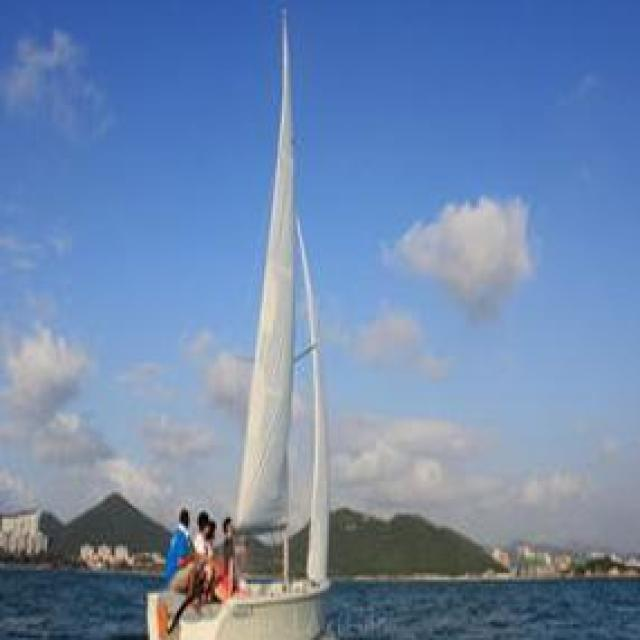sailboat: (139, 2, 351, 640)
